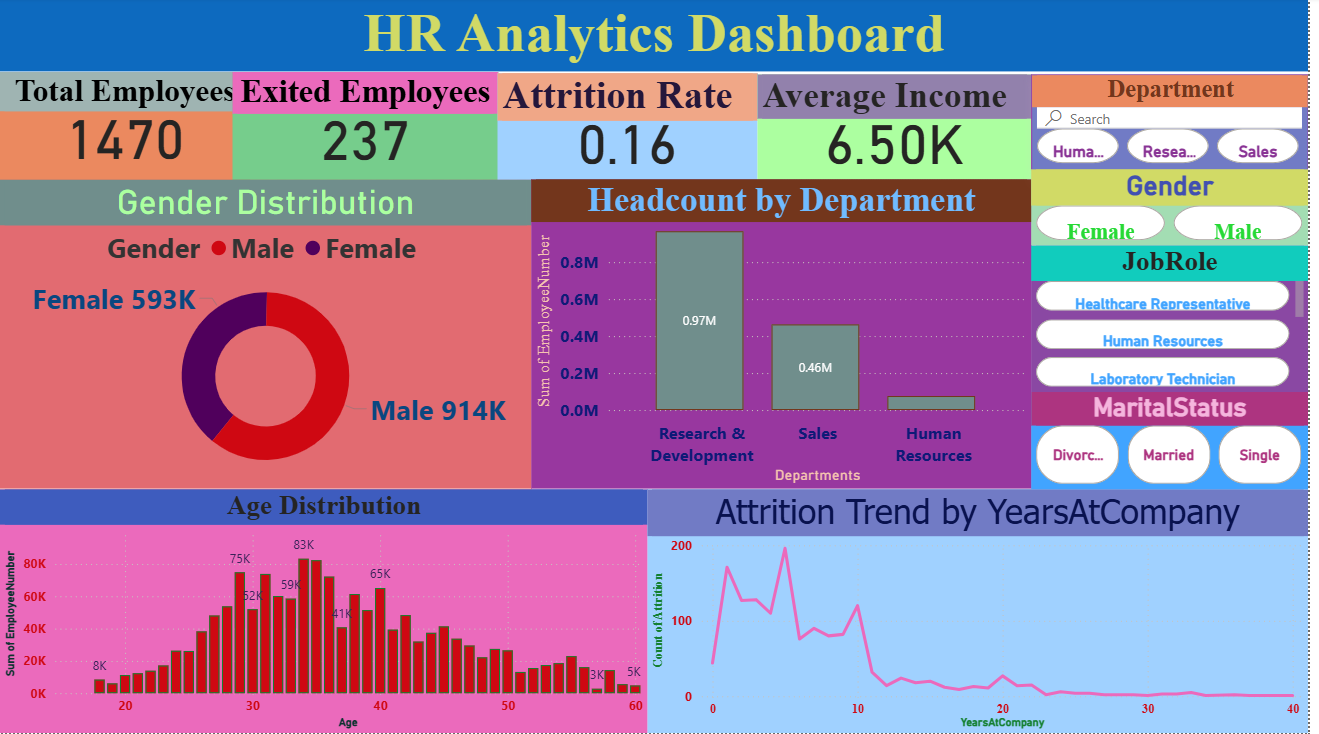

Layout of this report page (visuals, bound fields, positions):
{"tool":"powerbi","page":{"name":"Page 1","canvas":[1280,720],"ordinal":0},"visuals":[{"type":"card","title":"Total Employees","fields":{"Values":["hranalytics.Total Employees"]},"box":[0,72.9,244.8,105.9],"z":0},{"type":"card","title":"Exited Employees","fields":{"Values":["hranalytics.Exited Employees"]},"box":[226.9,72.9,259.9,105.9],"z":1000},{"type":"card","title":"Attrition Rate","fields":{"Values":["hranalytics.Attrition Rate"]},"box":[486.8,74.3,254.4,105.9],"z":2000},{"type":"card","title":"Average Income","fields":{"Values":["hranalytics.Average Income"]},"box":[741.2,75.6,268.2,105.9],"z":3000},{"type":"donutChart","title":"Gender Distribution","fields":{"Y":["Sum(hranalytics.EmployeeNumber)"],"Category":["hranalytics.Gender"]},"box":[0,178.8,519.8,302.5],"z":4000},{"type":"columnChart","title":"Headcount by Department","fields":{"Category":["hranalytics.Department"],"Y":["Sum(hranalytics.EmployeeNumber)"]},"box":[519.8,178.8,489.6,302.5],"z":5000},{"type":"clusteredColumnChart","title":" Age Distribution","fields":{"Category":["hranalytics.Age"],"Y":["Sum(hranalytics.EmployeeNumber)"]},"box":[0,481.3,634,239.3],"z":6000},{"type":"lineChart","title":" Attrition Trend by YearsAtCompany","fields":{"Category":["hranalytics.YearsAtCompany"],"Y":["CountNonNull(hranalytics.Attrition)"]},"box":[634,481.3,646.3,239.3],"z":7000},{"type":"advancedSlicerVisual","fields":{"Values":["hranalytics.Department"]},"box":[1009.4,75.6,270.9,93.5],"z":8000},{"type":"advancedSlicerVisual","fields":{"Values":["hranalytics.Gender"]},"box":[1009.4,162.3,270.9,71.5],"z":9000},{"type":"advancedSlicerVisual","fields":{"Values":["hranalytics.JobRole"]},"box":[1009.4,233.8,270.9,152.6],"z":10000},{"type":"advancedSlicerVisual","fields":{"Values":["hranalytics.MaritalStatus"]},"box":[1009.4,378.2,270.9,103.1],"z":11000},{"type":"textbox","box":[0,0,1280.3,72.9],"z":12000}]}

Visuals, with their boxes in screenshot pixels (x1, y1, x2, y2), scaled from the page's 1280x720 canvas onto the 1319x734 screenshot:
"Total Employees" card: <bbox>0, 74, 252, 182</bbox>
"Exited Employees" card: <bbox>234, 74, 502, 182</bbox>
"Attrition Rate" card: <bbox>502, 76, 764, 184</bbox>
"Average Income" card: <bbox>764, 77, 1040, 185</bbox>
"Gender Distribution" donutChart: <bbox>0, 182, 536, 491</bbox>
"Headcount by Department" columnChart: <bbox>536, 182, 1040, 491</bbox>
" Age Distribution" clusteredColumnChart: <bbox>0, 491, 653, 733</bbox>
" Attrition Trend by YearsAtCompany" lineChart: <bbox>653, 491, 1318, 733</bbox>
advancedSlicerVisual - hranalytics.Department: <bbox>1040, 77, 1318, 172</bbox>
advancedSlicerVisual - hranalytics.Gender: <bbox>1040, 165, 1318, 238</bbox>
advancedSlicerVisual - hranalytics.JobRole: <bbox>1040, 238, 1318, 394</bbox>
advancedSlicerVisual - hranalytics.MaritalStatus: <bbox>1040, 386, 1318, 491</bbox>
textbox: <bbox>0, 0, 1318, 74</bbox>
